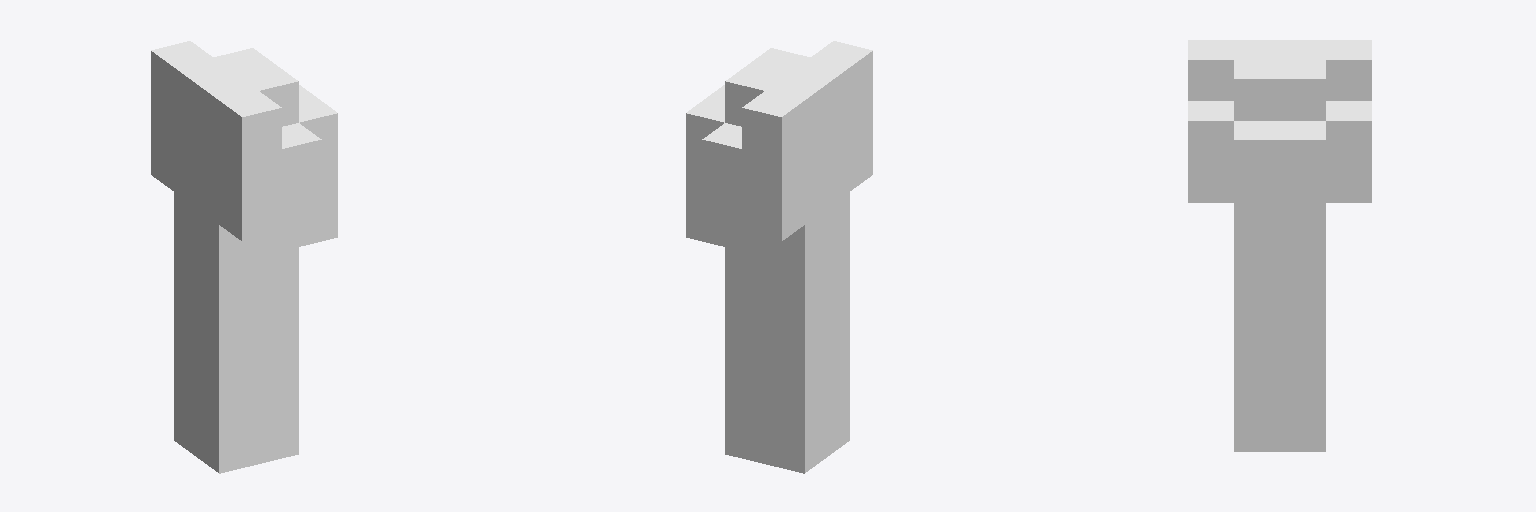
Rendered from Right_Shoulder.obj.
3 renders of one model, left to right at view 1: azimuth 30°, elevation 25°; view 2: azimuth 150°, elevation 25°; view 3: azimuth 270°, elevation 25°, orthographic.
Parts seen in each view (by area): view 1: object 1; view 2: object 1; view 3: object 1.
Boxes of the visible parts, x1=… form: object 1: x1=151, y1=41, x2=337, y2=473; object 1: x1=686, y1=41, x2=872, y2=473; object 1: x1=1188, y1=40, x2=1371, y2=451.
Bounding box in the file's own units: 0.3 × 0.9 × 0.4.